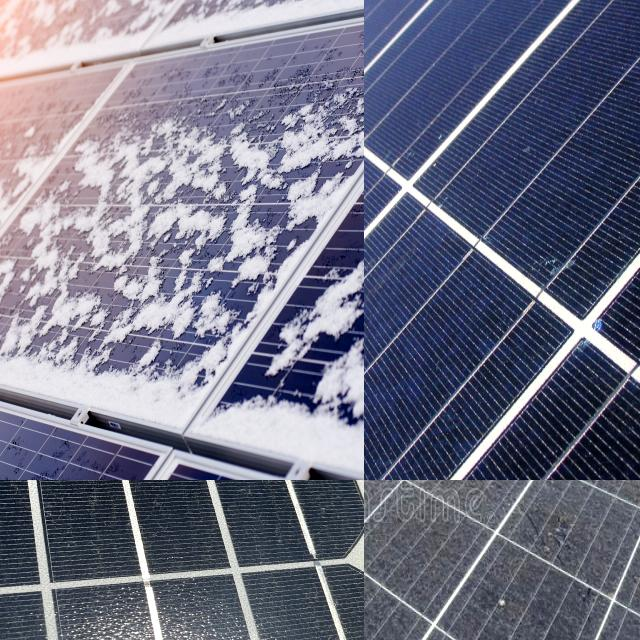crack: (364, 0, 640, 480), (0, 480, 364, 640)
dust: (364, 536, 550, 611), (394, 480, 554, 547), (579, 481, 640, 624), (396, 480, 543, 534), (364, 480, 426, 574), (364, 480, 425, 561), (364, 576, 429, 640), (586, 480, 640, 555), (364, 480, 417, 550), (364, 480, 419, 533), (572, 480, 640, 508)
panel: (56, 110, 178, 214), (20, 222, 104, 350), (194, 105, 286, 213), (116, 229, 190, 351), (296, 83, 354, 218), (76, 0, 175, 72), (0, 0, 78, 87), (200, 224, 272, 311), (194, 0, 296, 61), (224, 372, 312, 442), (294, 279, 364, 364), (0, 173, 49, 282), (305, 341, 364, 424), (0, 0, 43, 97), (53, 356, 130, 410), (0, 145, 58, 213), (125, 352, 203, 398), (325, 0, 364, 59), (0, 299, 37, 355), (305, 0, 326, 48)
